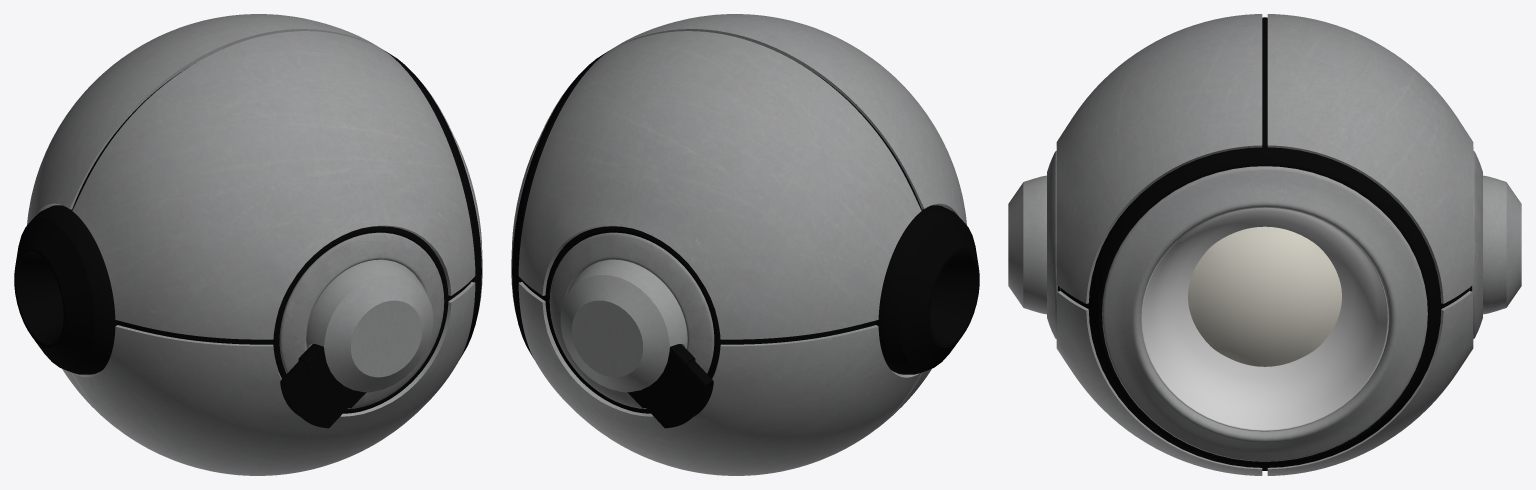
The picture shows the model from 3 angles, left to right: view 1: azimuth 30°, elevation 25°; view 2: azimuth 150°, elevation 25°; view 3: azimuth 270°, elevation 25°; orthographic projection.
Parts seen in each view (by area): view 1: Body, Engine_back, Engine_Side, Sphere.004, Engine_Dls, Sphere.005, Sphere.003, Sphere.006; view 2: Body, Engine_back, Engine_Side, Sphere.004, Engine_Dls, Sphere.005, Sphere.003, Sphere.006; view 3: Body, Sphere.001, Cylinder, Glass, Sphere.003, Engine_Side, Sphere.004, Sphere.006.
Part boxes in pixels (<box>): Body: <box>27,14,475,475</box>; Engine_back: <box>14,205,117,374</box>; Engine_Side: <box>306,259,433,392</box>; Sphere.004: <box>279,232,444,408</box>; Engine_Dls: <box>280,344,366,428</box>; Sphere.005: <box>272,226,448,413</box>; Sphere.003: <box>384,50,481,358</box>; Sphere.006: <box>71,67,471,344</box>; Body: <box>518,14,966,475</box>; Engine_back: <box>876,205,979,374</box>; Engine_Side: <box>560,259,687,392</box>; Sphere.004: <box>549,232,714,408</box>; Engine_Dls: <box>627,344,713,428</box>; Sphere.005: <box>545,226,721,413</box>; Sphere.003: <box>512,50,609,358</box>; Sphere.006: <box>522,67,922,344</box>; Body: <box>1056,14,1473,475</box>; Sphere.001: <box>1102,166,1427,461</box>; Cylinder: <box>1141,207,1388,431</box>; Glass: <box>1188,226,1341,366</box>; Sphere.003: <box>1088,147,1441,467</box>; Engine_Side: <box>1008,175,1521,314</box>; Sphere.004: <box>1047,150,1482,338</box>; Sphere.006: <box>1060,17,1469,470</box>.
Size of the model in its own units: 1.86 by 1.97 by 2.19.
